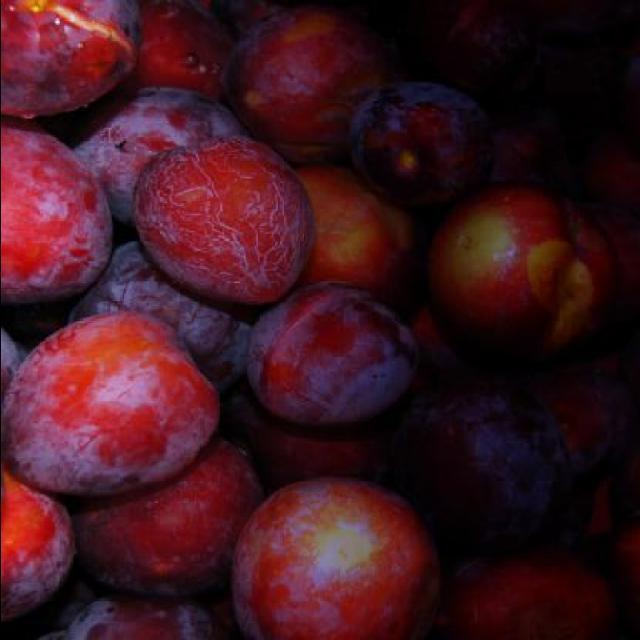Apple pie: (2, 309, 230, 493)
